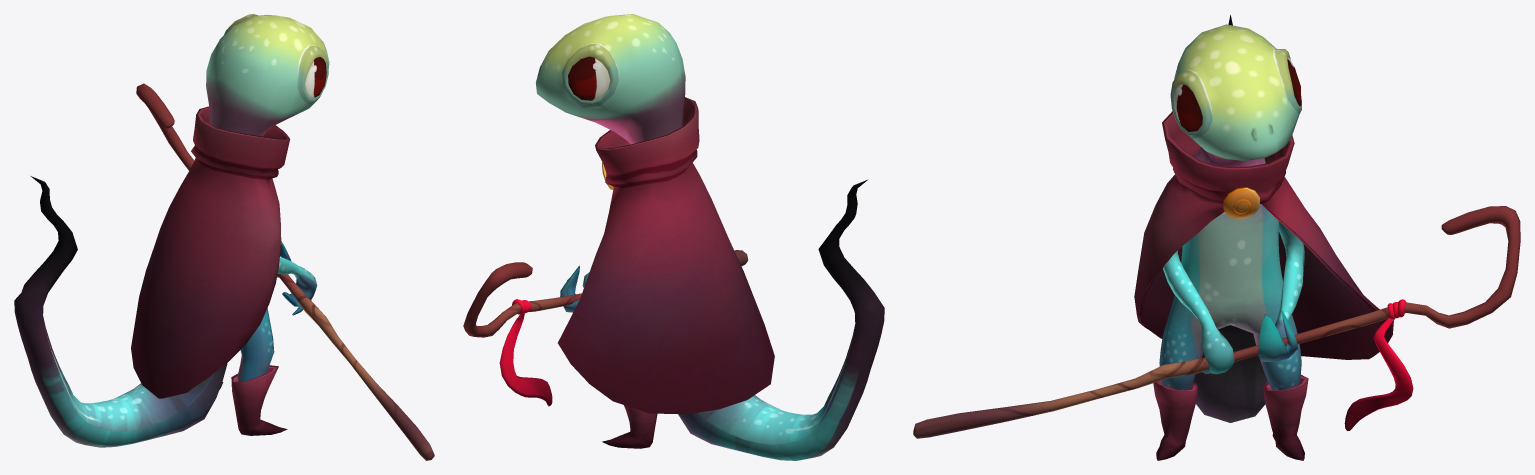
The model's file is lizard_mage.glb.
3 views of the same model, side by side, from view 1: azimuth 30°, elevation 25°; view 2: azimuth 150°, elevation 25°; view 3: azimuth 270°, elevation 25° (orthographic). The views are drawn at different scales.
Visible parts, largest first — view 1: Object_2; view 2: Object_2; view 3: Object_2.
Part boxes in pixels (x1,y1,x2,y2): Object_2: [14, 14, 434, 460]; Object_2: [463, 14, 884, 460]; Object_2: [913, 15, 1520, 460].
Bounding box in the file's own units: 3.45 × 3.96 × 4.99.
Materials: 1 (1 with a texture image).
